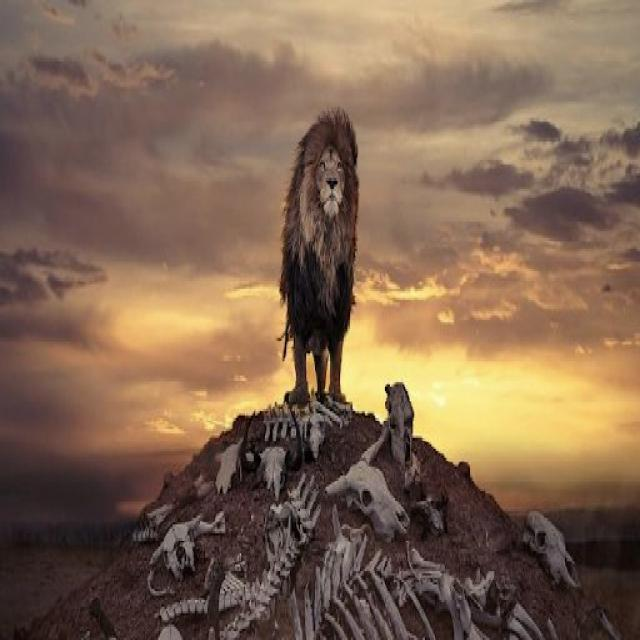lion: (280, 109, 359, 400)
